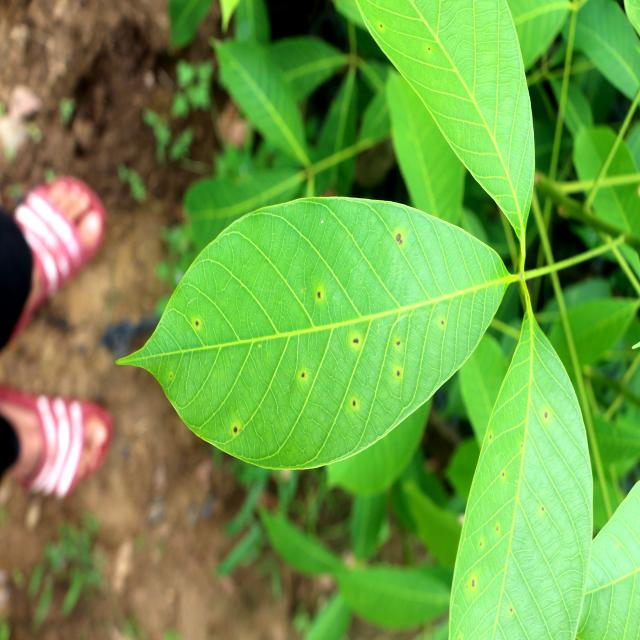Colletotrichum: (396, 233, 401, 242)
